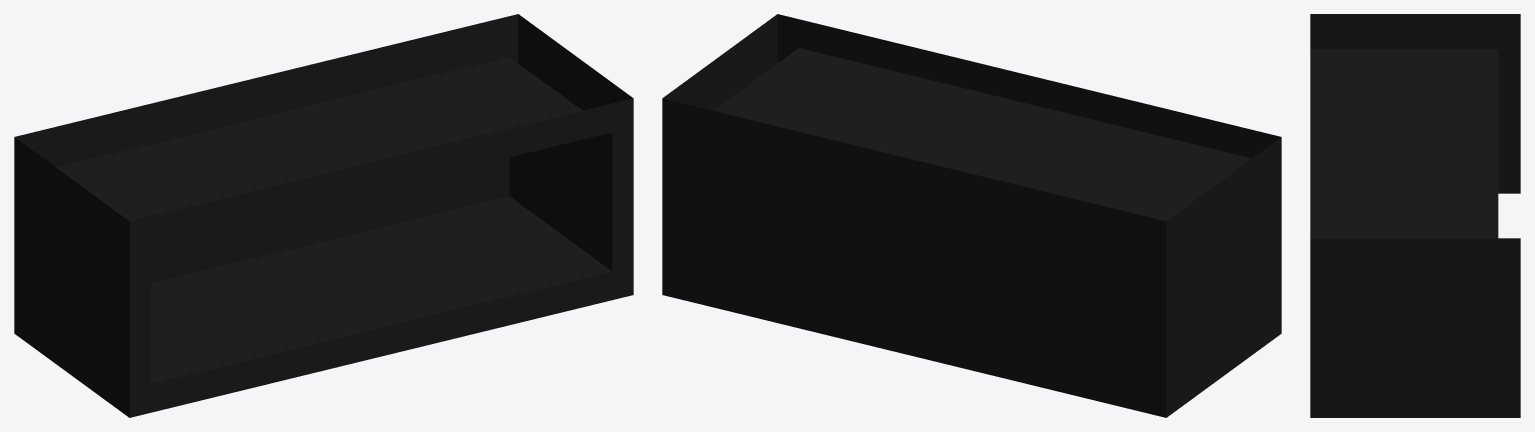
The model's file is Itr_Wardrobe1_Body_03.FBX.
3 views of the same model, side by side, from view 1: azimuth 30°, elevation 25°; view 2: azimuth 150°, elevation 25°; view 3: azimuth 270°, elevation 25° (orthographic). The views are drawn at different scales.
Parts seen in each view (by area): view 1: Itr_Wardrobe1_Body_03; view 2: Itr_Wardrobe1_Body_03; view 3: Itr_Wardrobe1_Body_03.
Part boxes in pixels (x1=…): Itr_Wardrobe1_Body_03: x1=14, y1=14, x2=633, y2=417; Itr_Wardrobe1_Body_03: x1=662, y1=14, x2=1281, y2=417; Itr_Wardrobe1_Body_03: x1=1310, y1=14, x2=1520, y2=417.
Size of the model in its own units: 44.53 by 16.61 by 17.63.
